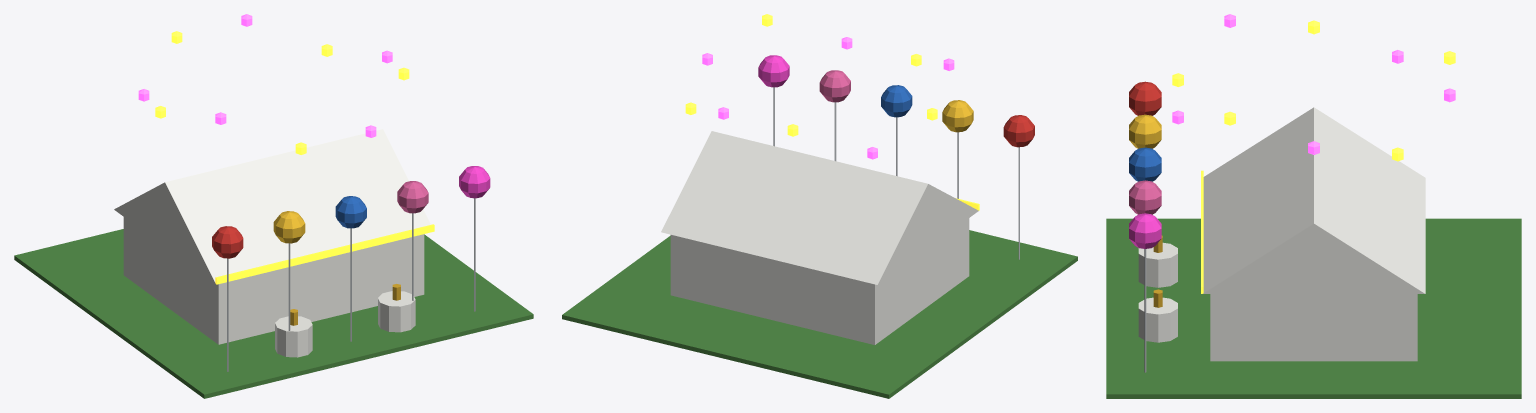
File: party.glb
The picture shows the model from 3 angles, left to right: view 1: azimuth 30°, elevation 25°; view 2: azimuth 150°, elevation 25°; view 3: azimuth 270°, elevation 25°; orthographic projection. The views are drawn at different scales.
Visible parts, largest first — view 1: party; view 2: party; view 3: party.
Boxes of the visible parts, x1,y1,x2,y2 form: party: (14,14,533,398); party: (562,14,1077,398); party: (1106,14,1521,398).
Size of the model in its own units: 1.6 by 1.06 by 1.6.
